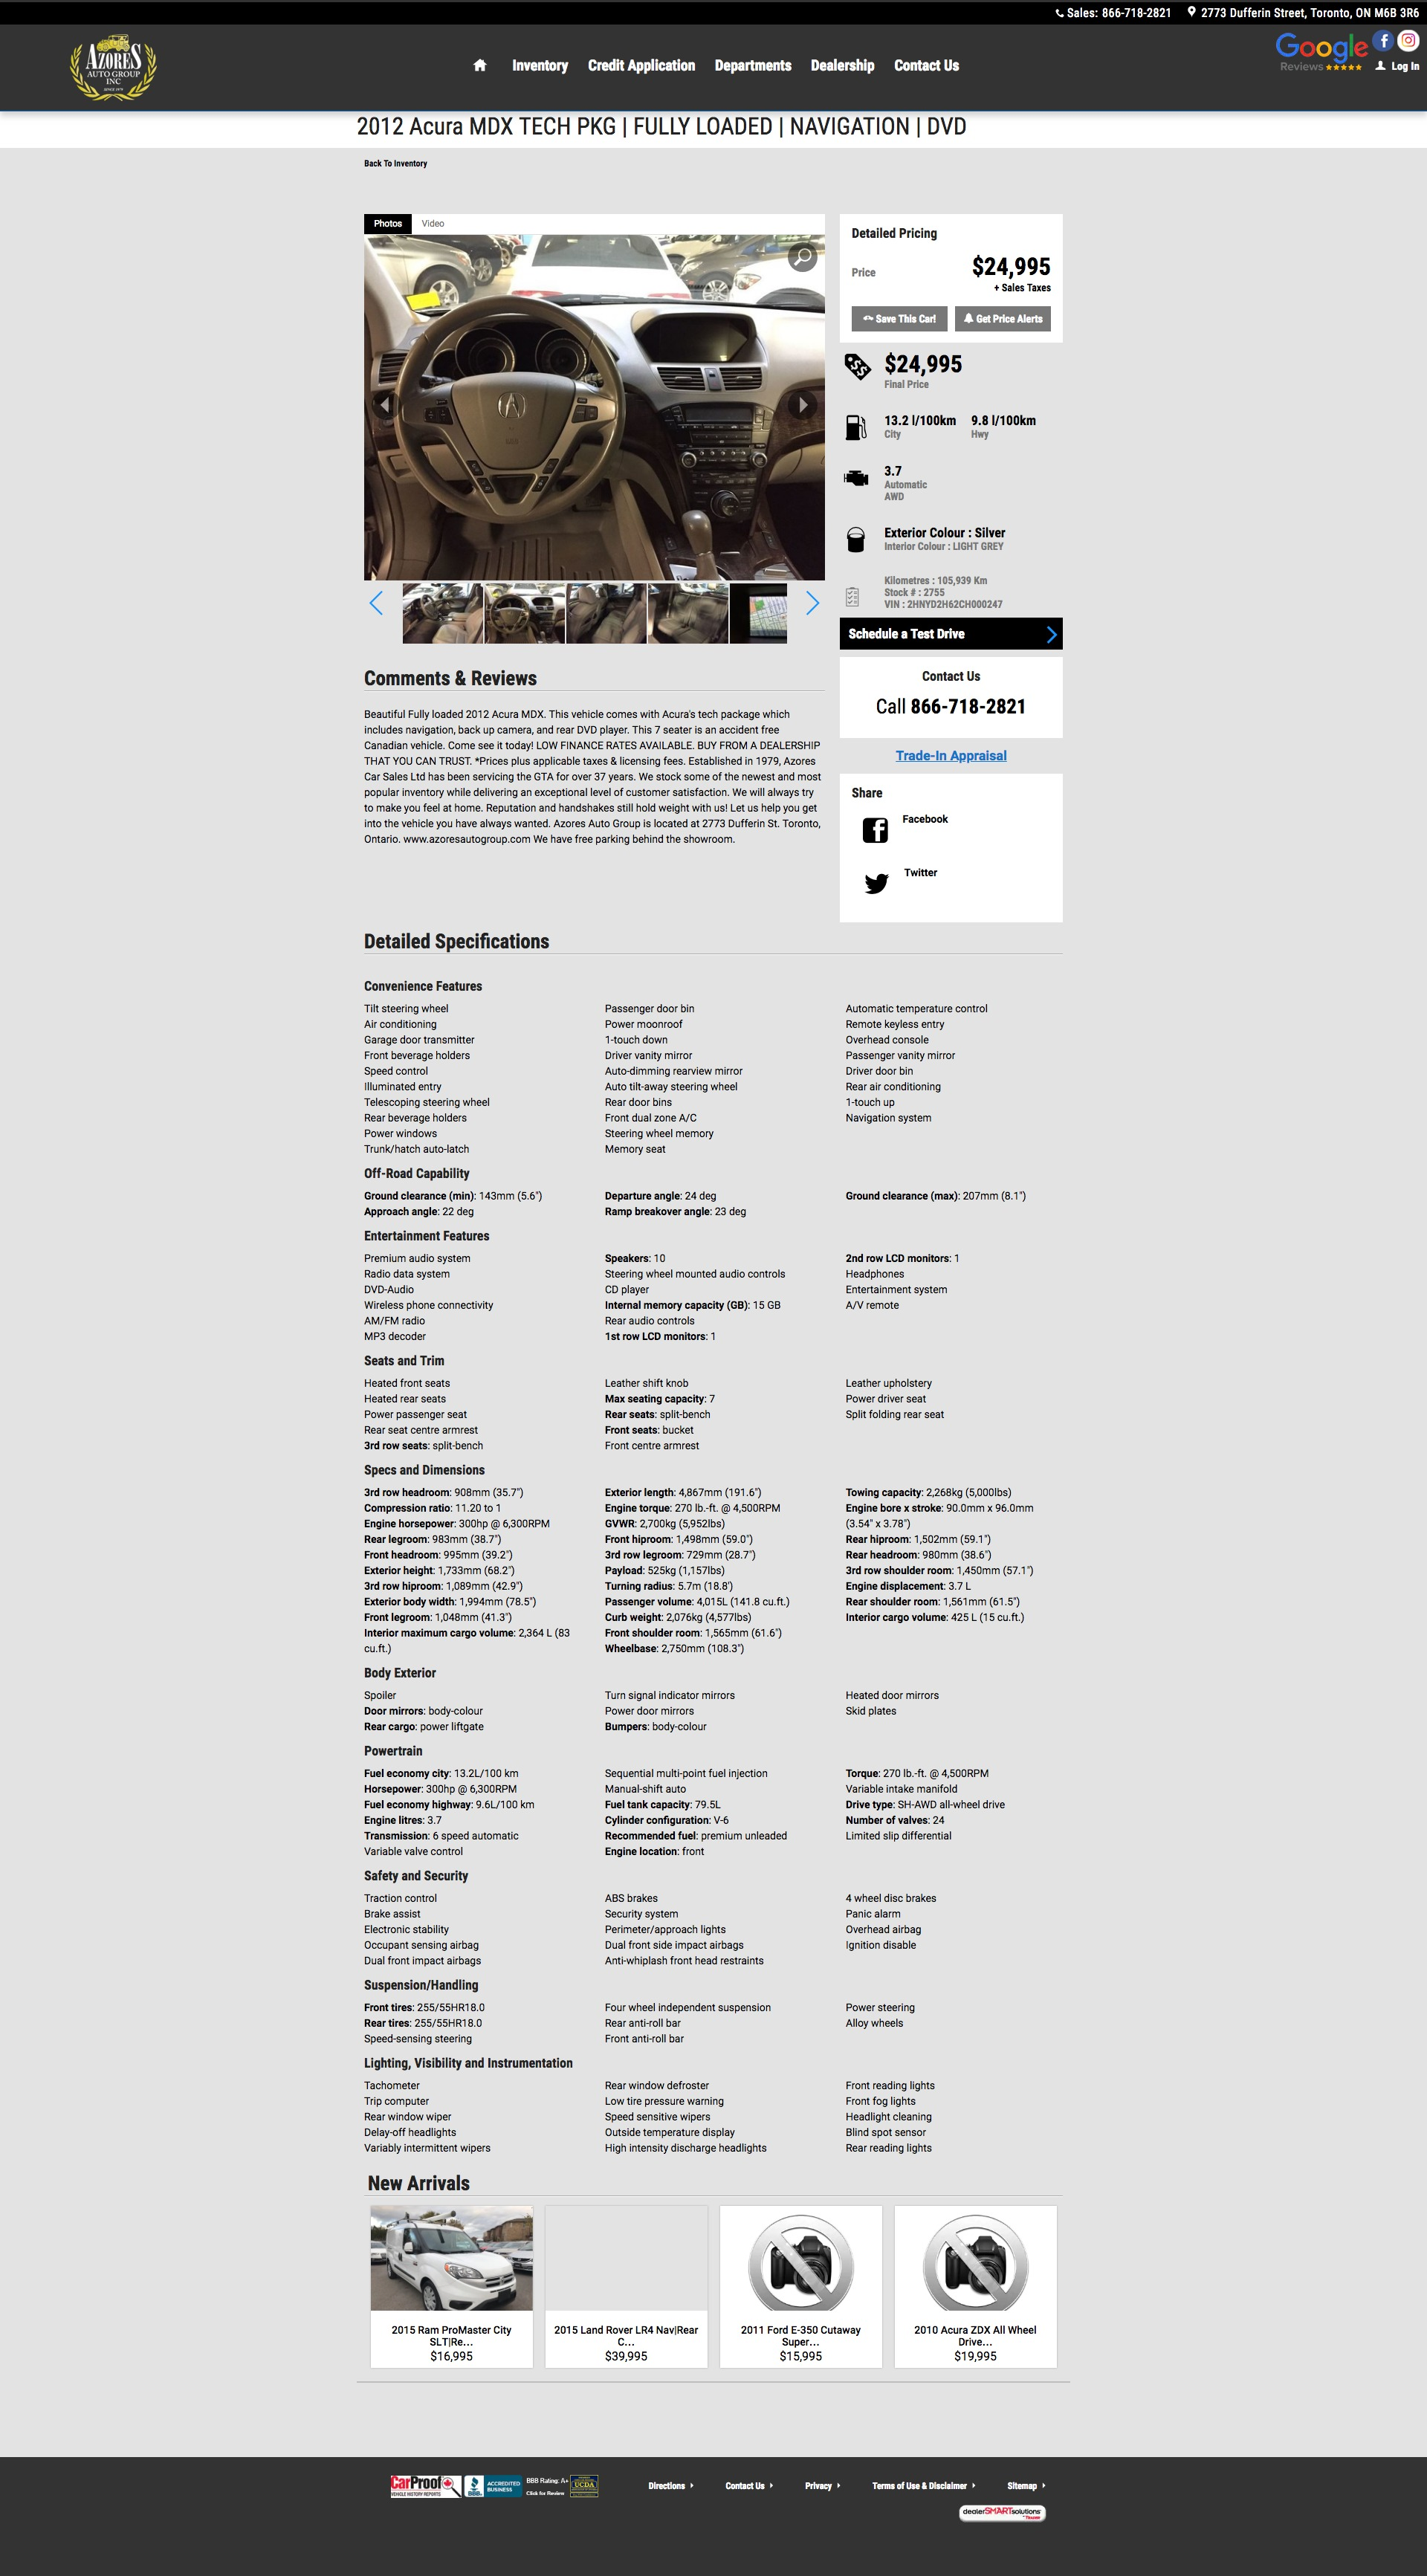car: (805, 589, 821, 617)
